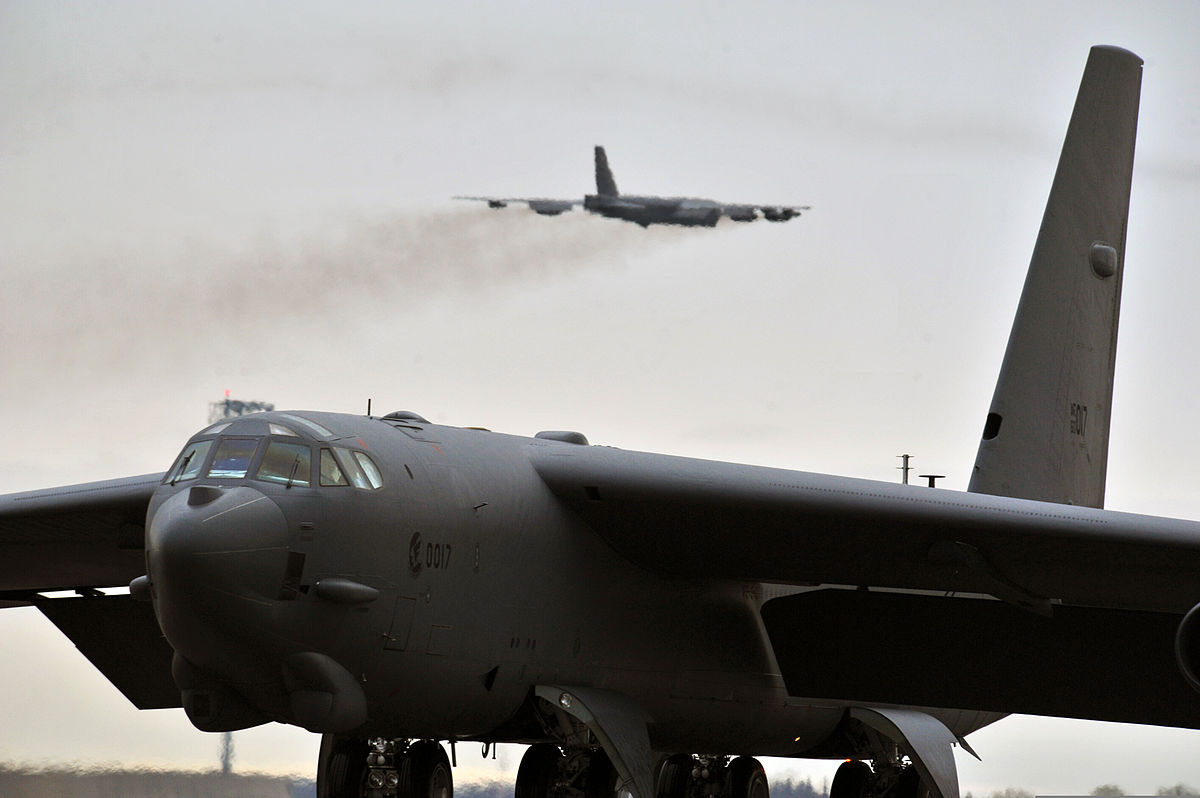B52: (1, 45, 1200, 798), (450, 145, 812, 230)
